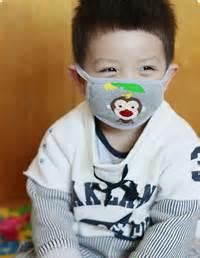OK: (89, 46, 167, 128)
